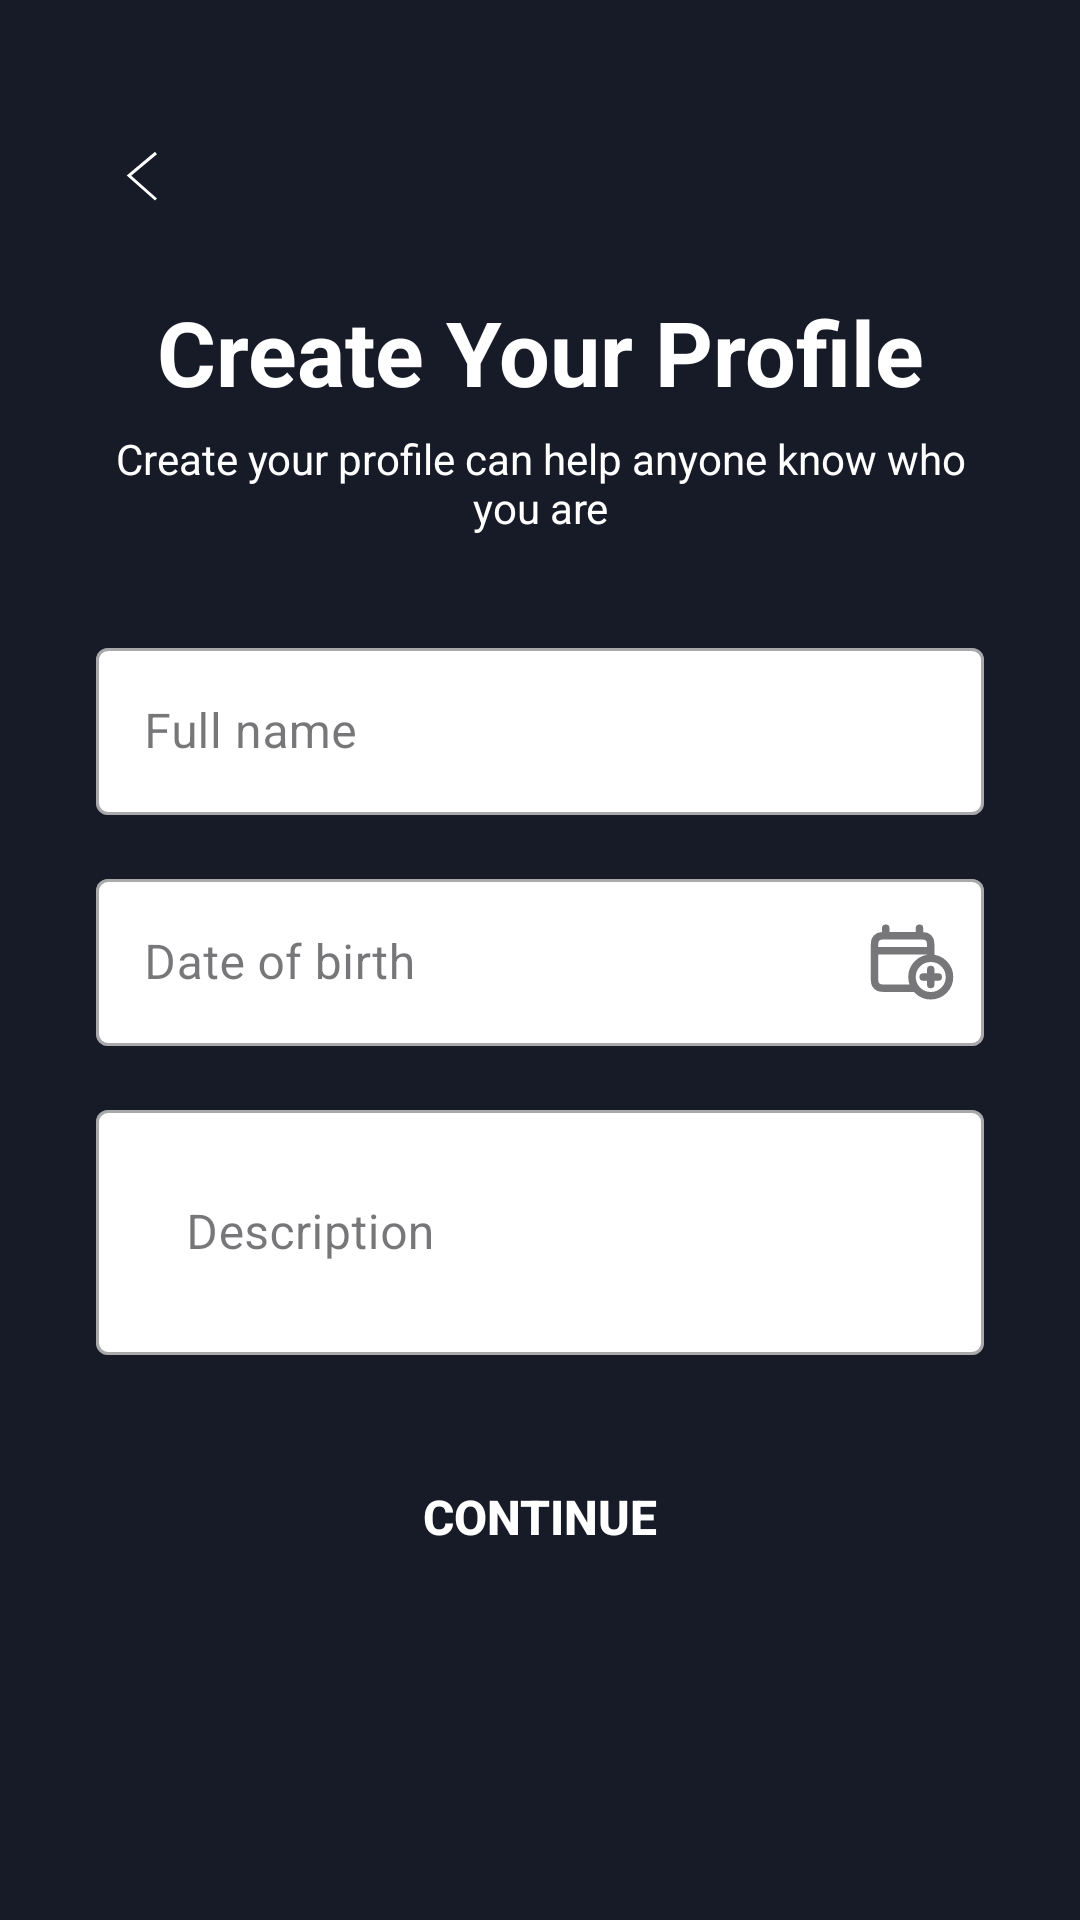

Icon click points for this 1080x1920 phone screenshot, format (x,y):
Back: (142,176)
